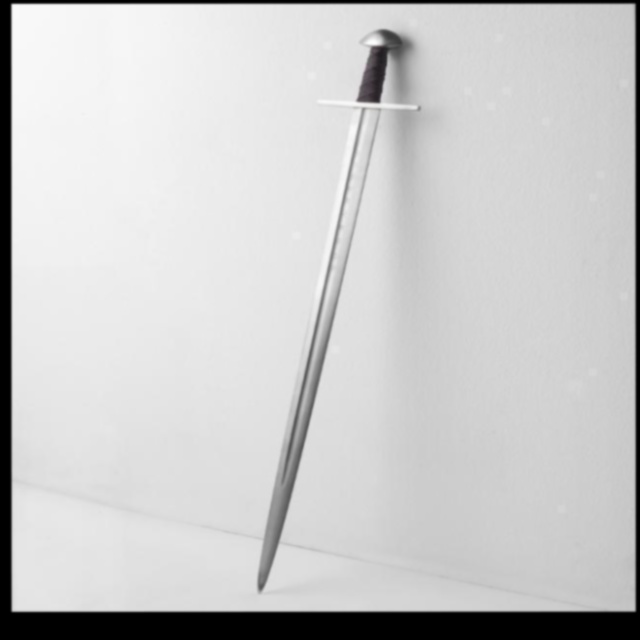Sharp-Object: (252, 29, 413, 599)
